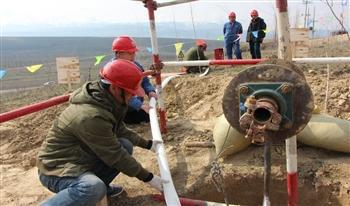helmet: (99, 60, 146, 103), (109, 35, 140, 64), (226, 10, 237, 25), (250, 7, 260, 20)
